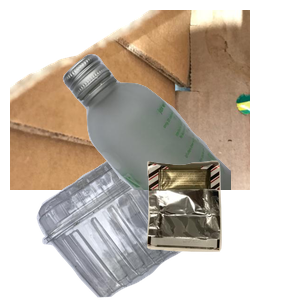cardboard: (10, 10, 250, 190)
glass: (60, 51, 300, 231)
plastic: (34, 130, 246, 300)
trash: (144, 158, 300, 300)
